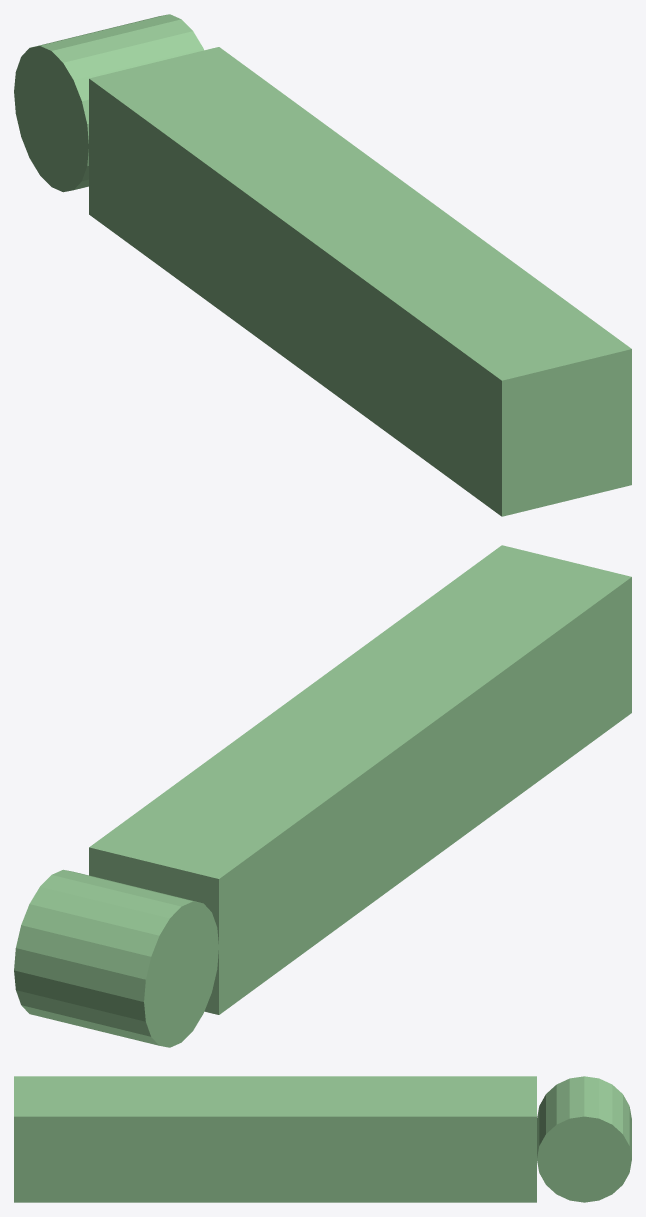
Rendered from WAIST_LINK2_mesh.dae.
3 views of the same model, one above another, from view 1: azimuth 30°, elevation 25°; view 2: azimuth 150°, elevation 25°; view 3: azimuth 270°, elevation 25° (orthographic). The views are drawn at different scales.
Visible parts, largest first — view 1: WAIST_LINK2 (×2); view 2: WAIST_LINK2 (×2); view 3: WAIST_LINK2 (×2).
Part boxes in pixels (bbox=[...]): WAIST_LINK2 (×2): bbox=[14, 14, 631, 516]; WAIST_LINK2 (×2): bbox=[14, 545, 631, 1047]; WAIST_LINK2 (×2): bbox=[14, 1076, 631, 1202].
Size of the model in its own units: 0.05 by 0.05 by 0.325.
